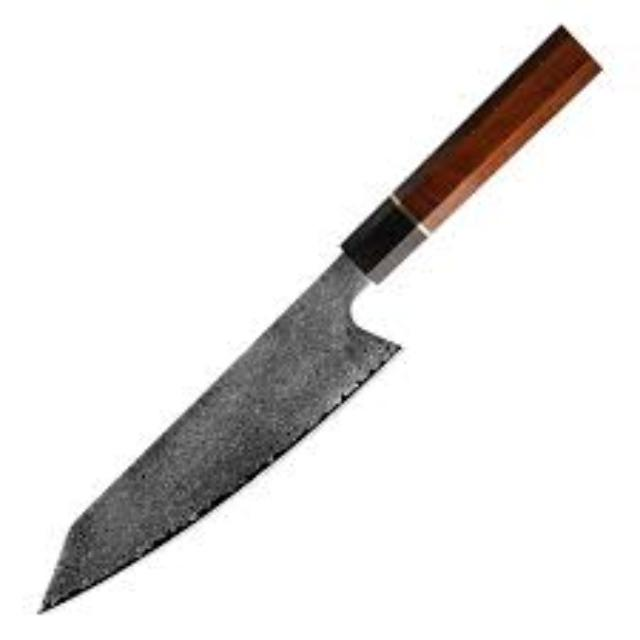Knife: (35, 21, 603, 612)
